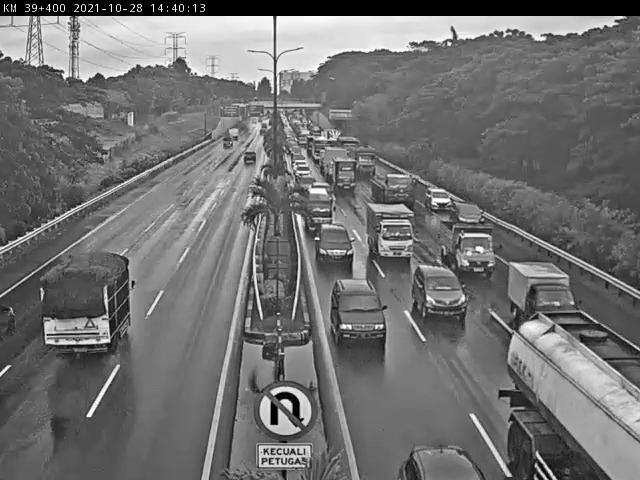big truck: (371, 171, 416, 204)
car: (510, 262, 584, 327), (329, 279, 387, 341), (413, 264, 468, 320), (316, 222, 355, 265), (451, 202, 489, 233), (425, 184, 454, 213)
small bus: (303, 185, 339, 237)
small truck: (364, 199, 416, 258), (438, 222, 495, 272)
truck-m-: (41, 249, 136, 353)
